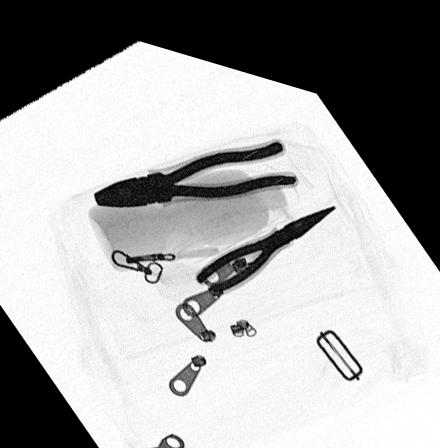Pliers: (90, 120, 298, 203), (189, 181, 339, 279)
